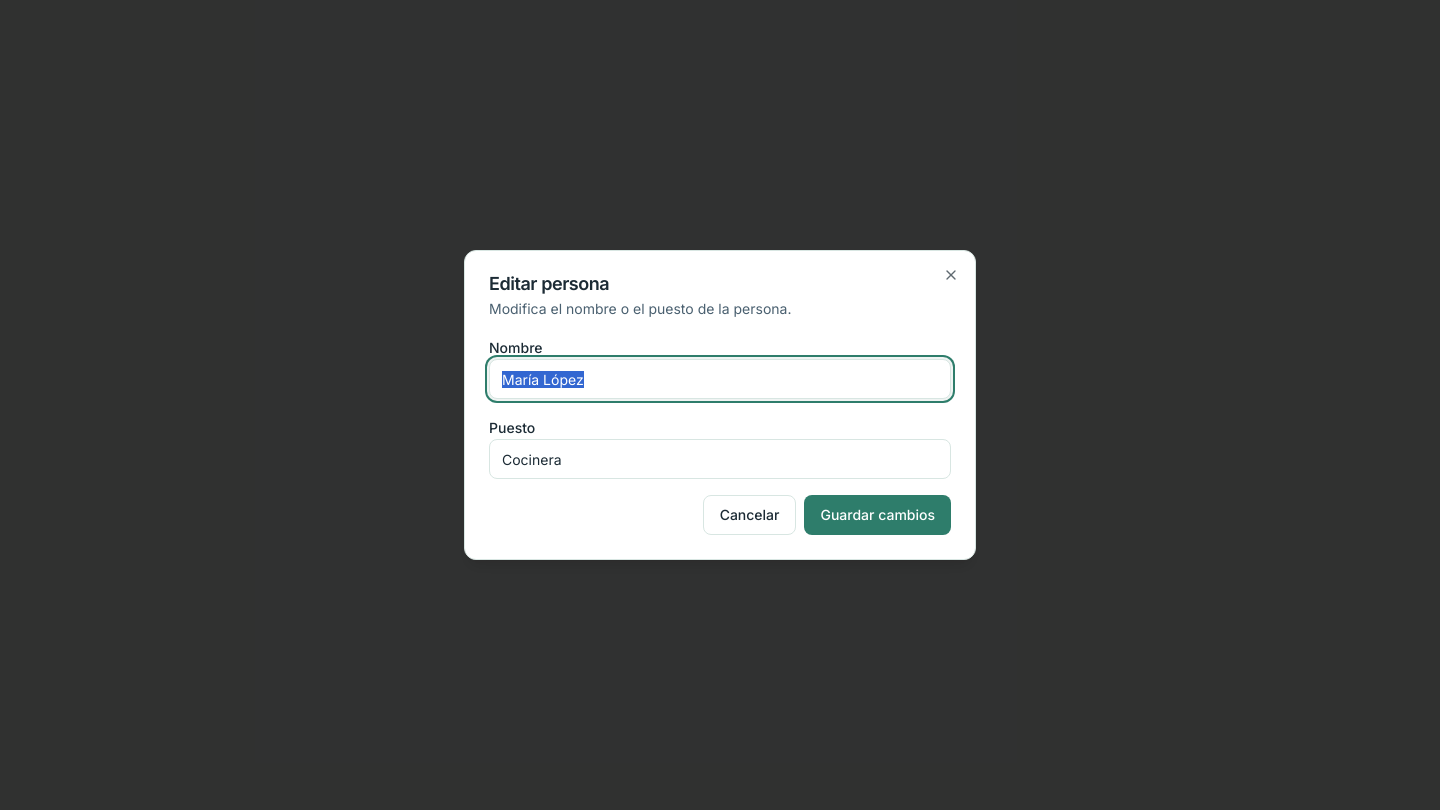
Test: StaffFormDialog - edit mode › shows validation error when both fields are empty in edit
Clear the field labelled "Nombre": coordinates (720, 379) [489,359,951,399]
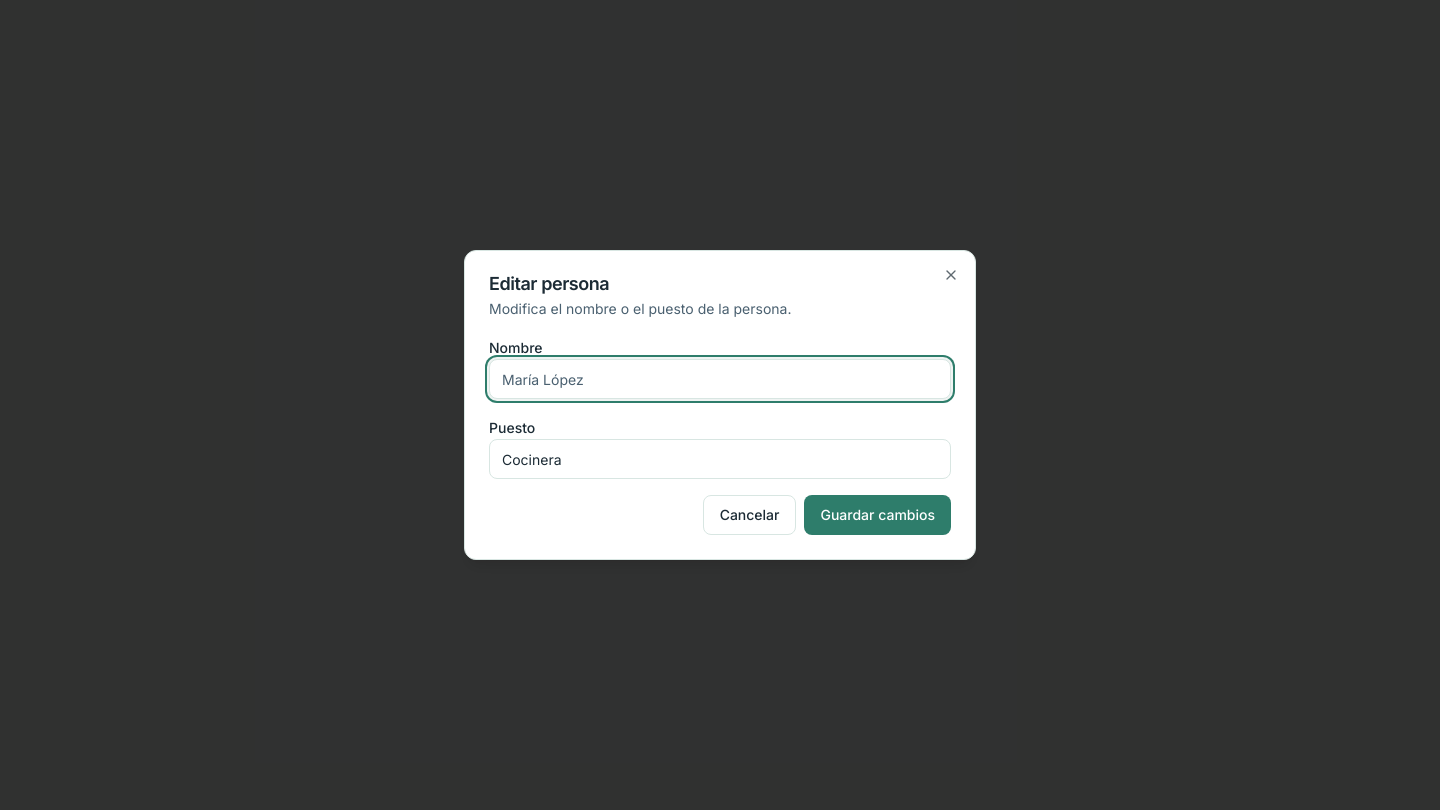
Clear the field labelled "Puesto": coordinates (720, 459) [489,439,951,479]
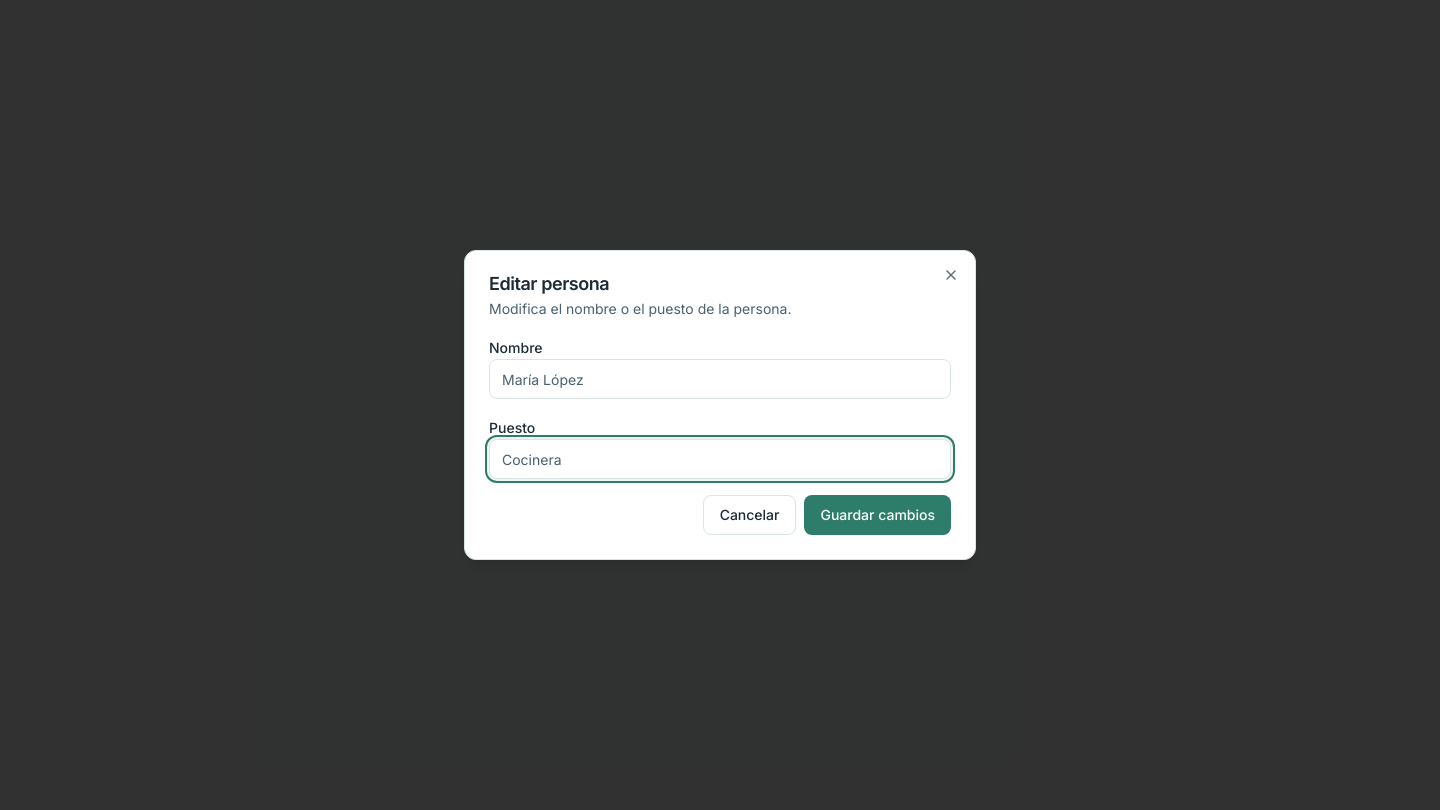
Click the button "Guardar cambios": coordinates (878, 515) [804,495,951,535]
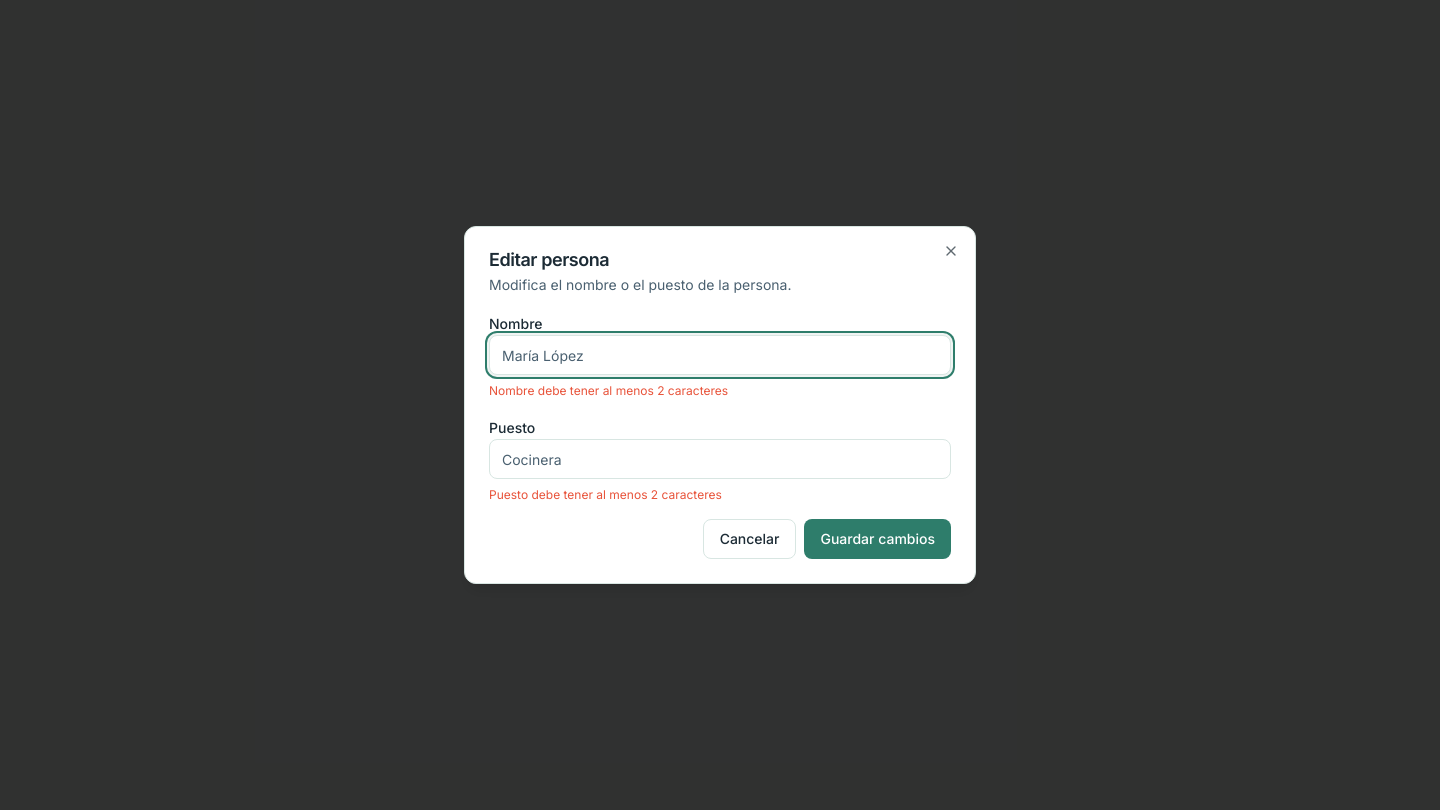
Now the text "Nombre debe tener al menos 2 caracteres" is shown 2 times, box [489,383,728,398]; [489,487,722,502]
